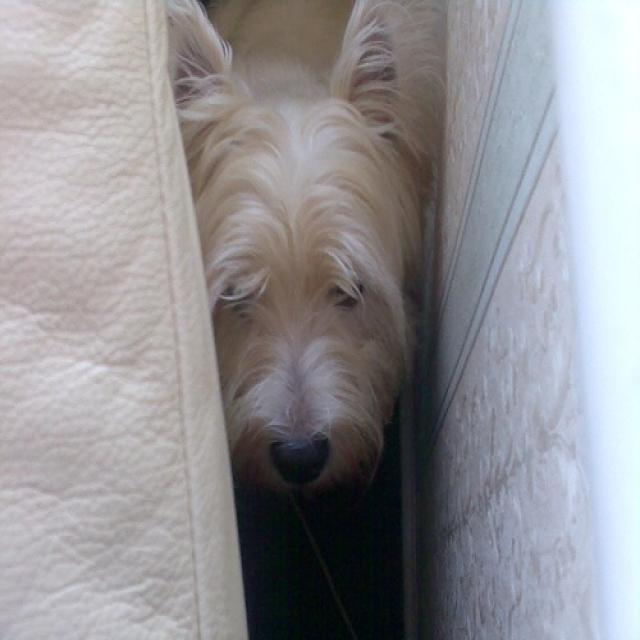dog: (168, 0, 435, 488)
